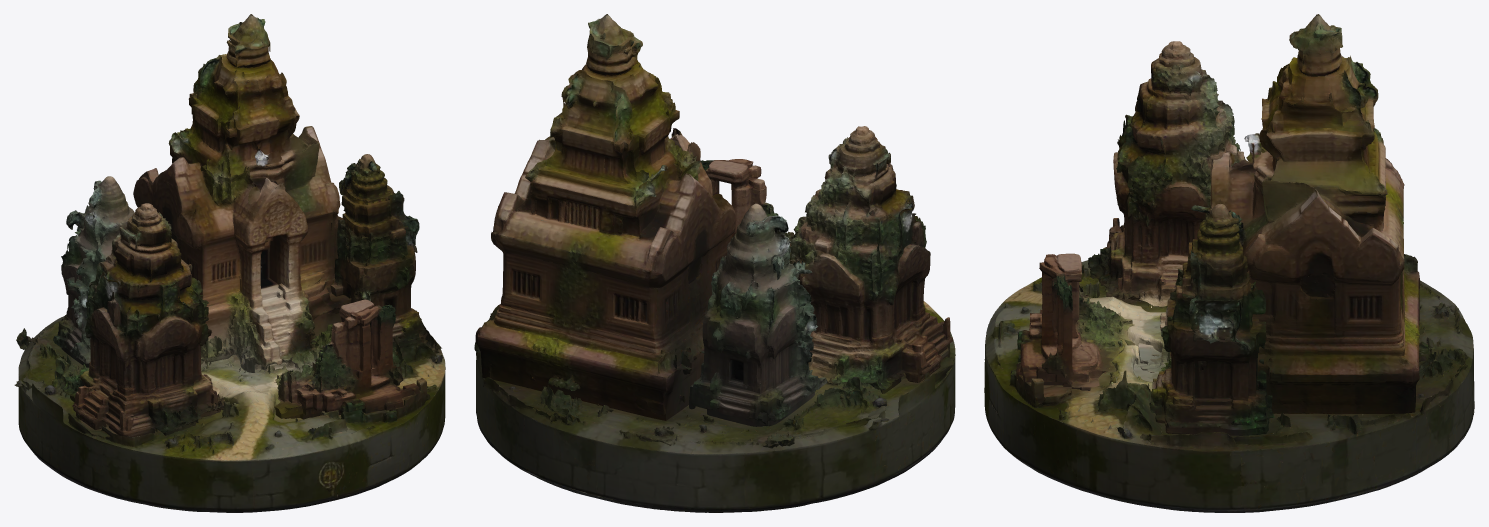
3 renders of one model, left to right at view 1: azimuth 30°, elevation 25°; view 2: azimuth 150°, elevation 25°; view 3: azimuth 270°, elevation 25°, orthographic. The views are drawn at different scales.
Visible parts, largest first — view 1: 1, 0, 2, 4, 5, 3; view 2: 1, 0, 2, 3, 5; view 3: 1, 0, 2, 4, 5.
Part boxes in pixels (left/top/right/bottom): 1: left=133, top=14, right=351, bottom=372; 0: left=14, top=316, right=445, bottom=512; 2: left=62, top=203, right=224, bottom=436; 4: left=311, top=154, right=427, bottom=349; 5: left=274, top=299, right=419, bottom=419; 3: left=53, top=176, right=134, bottom=367; 1: left=475, top=14, right=735, bottom=420; 0: left=474, top=301, right=955, bottom=512; 2: left=789, top=126, right=952, bottom=393; 3: left=689, top=203, right=827, bottom=426; 5: left=701, top=159, right=793, bottom=263; 1: left=1138, top=14, right=1429, bottom=414; 0: left=984, top=247, right=1474, bottom=512; 2: left=1088, top=41, right=1245, bottom=307; 4: left=1149, top=203, right=1274, bottom=435; 5: left=1016, top=253, right=1135, bottom=390.
Size of the model in its own units: 0.9294 by 0.8814 by 0.9138.
6 materials, 6 textured.
